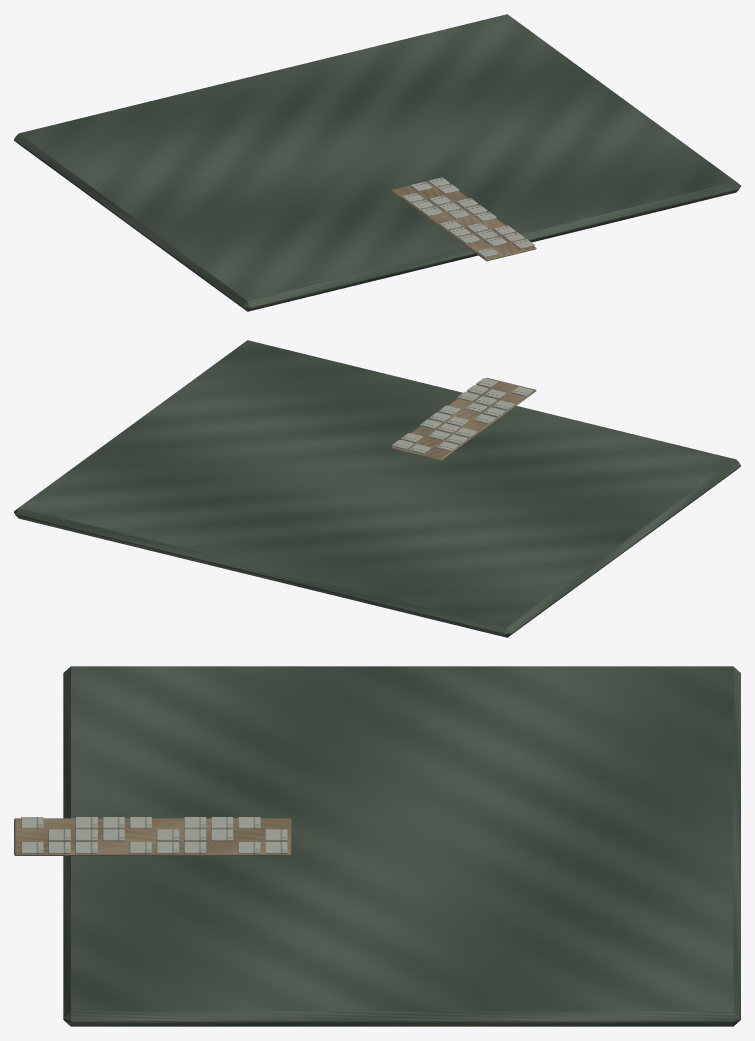
Rendered from CityGround.glb.
The picture shows the model from 3 angles, top to bottom: view 1: azimuth 30°, elevation 25°; view 2: azimuth 150°, elevation 25°; view 3: azimuth 270°, elevation 25°; orthographic projection. The views are drawn at different scales.
Visible parts, largest first — view 1: Meadow foundation, Road to gate; view 2: Meadow foundation, Road to gate; view 3: Meadow foundation, Road to gate.
Part boxes in pixels (box(x1,y1,x2,y2)): Meadow foundation: box(14, 14, 740, 311); Road to gate: box(391, 181, 536, 261); Meadow foundation: box(14, 340, 740, 637); Road to gate: box(391, 377, 536, 460); Meadow foundation: box(63, 666, 740, 1026); Road to gate: box(14, 818, 291, 855).
Bounding box in the file's own units: 27 × 0.7275 × 23.6.
Materials: 3 (3 with a texture image).
